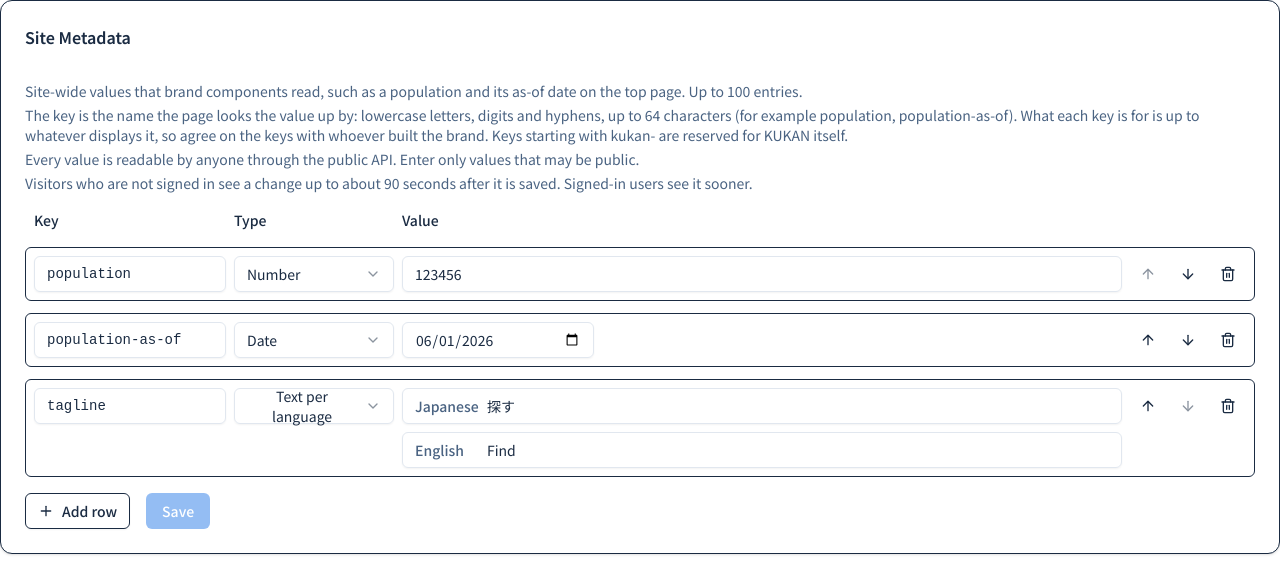
SiteMetadataCard › should hold the save back while a key is repeated or malformed
Expected: the text "Site Metadata" is shown, [25,25,131,49]
Step 1. Replace the text in the 2nd field named "Key" with "population" → point(130, 340), box [34,322,226,358]
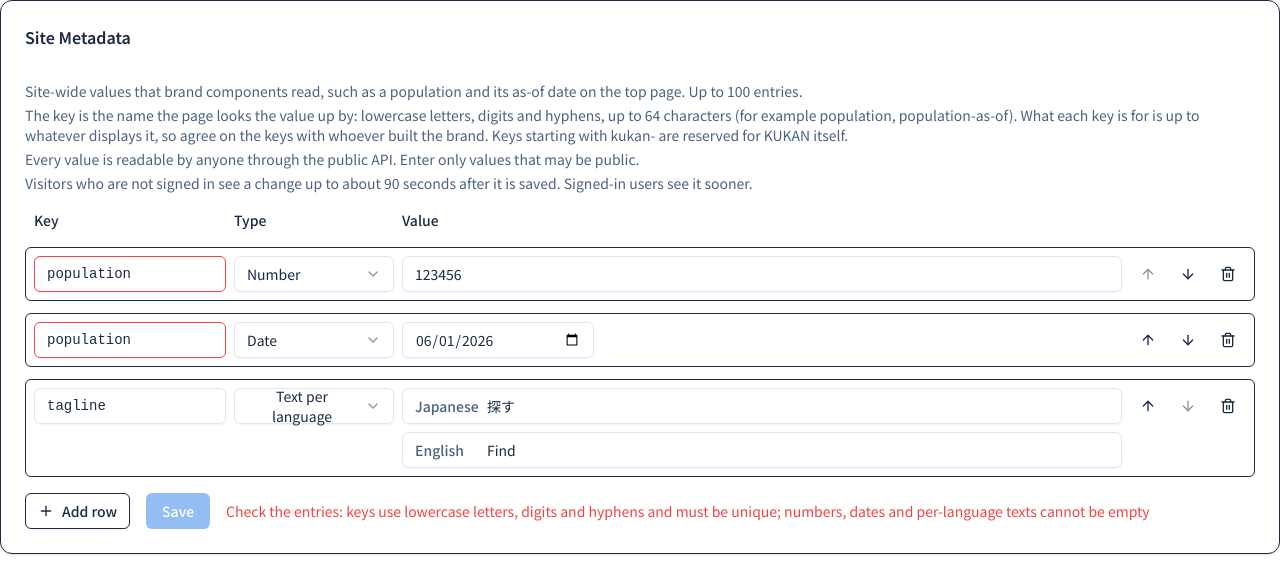
Expected: the button "Save" is disabled, [146,493,210,529]
Expected: the text "Check the entries" is shown, [226,501,1150,521]
Step 2. Replace the text in the 2nd field named "Key" with "Population As Of" → point(130, 340), box [34,322,226,358]
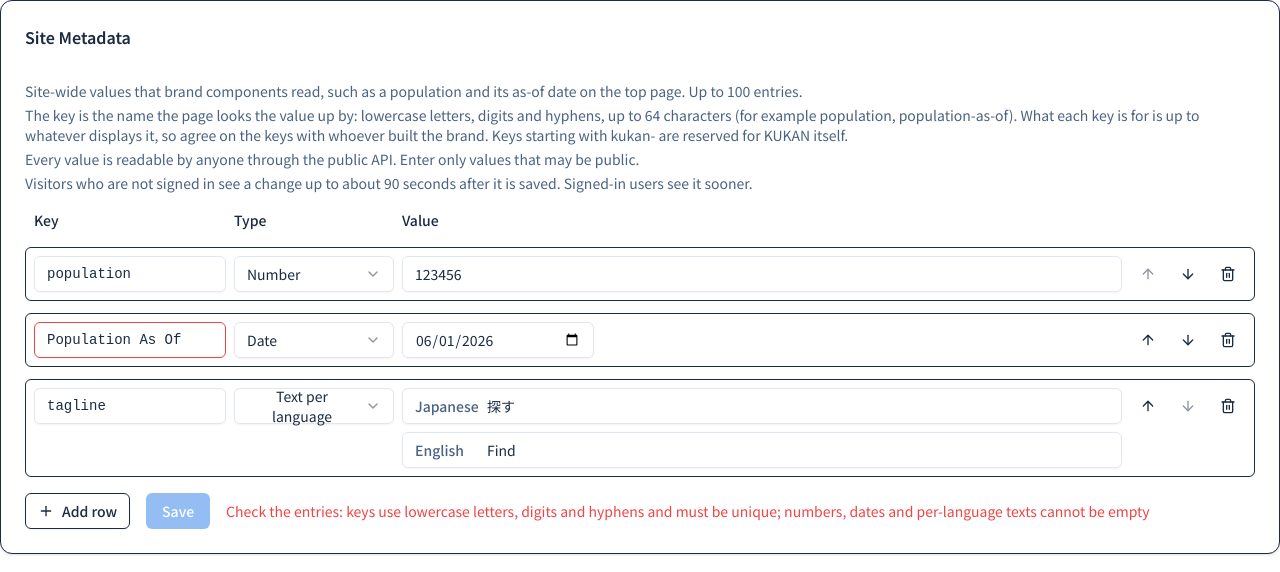
Expected: the button "Save" is disabled, [146,493,210,529]
Step 3. Replace the text in the 2nd field named "Key" with "as-of" → point(130, 340), box [34,322,226,358]
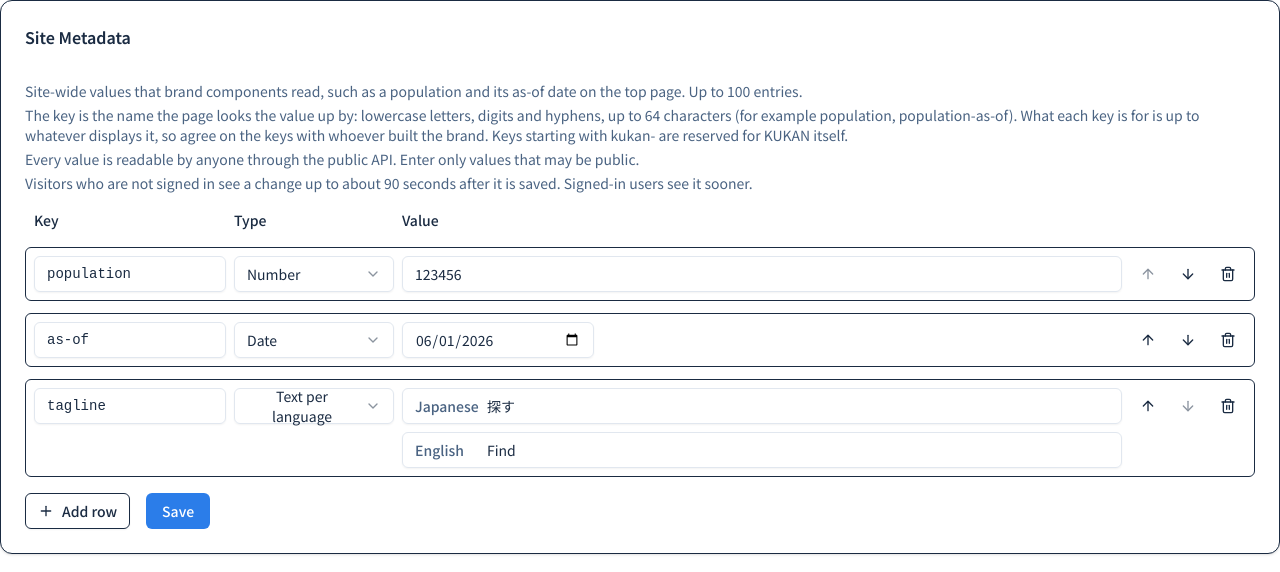
Expected: the button "Save" is enabled, [146,493,210,529]
